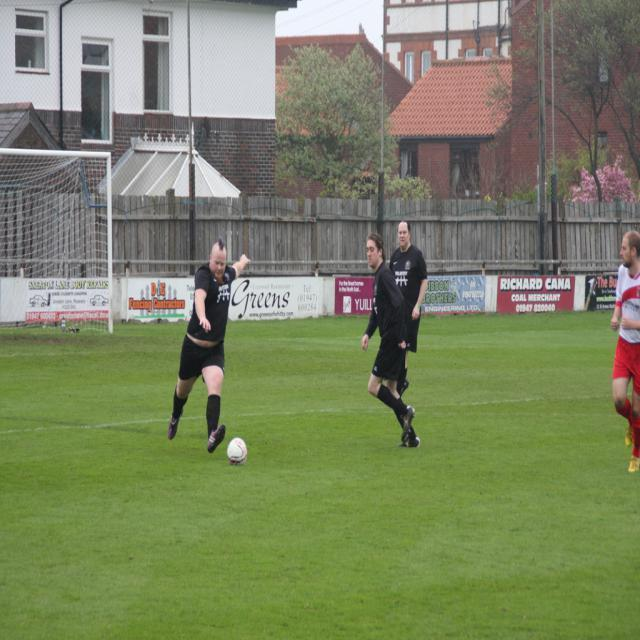football: (222, 428, 261, 469)
